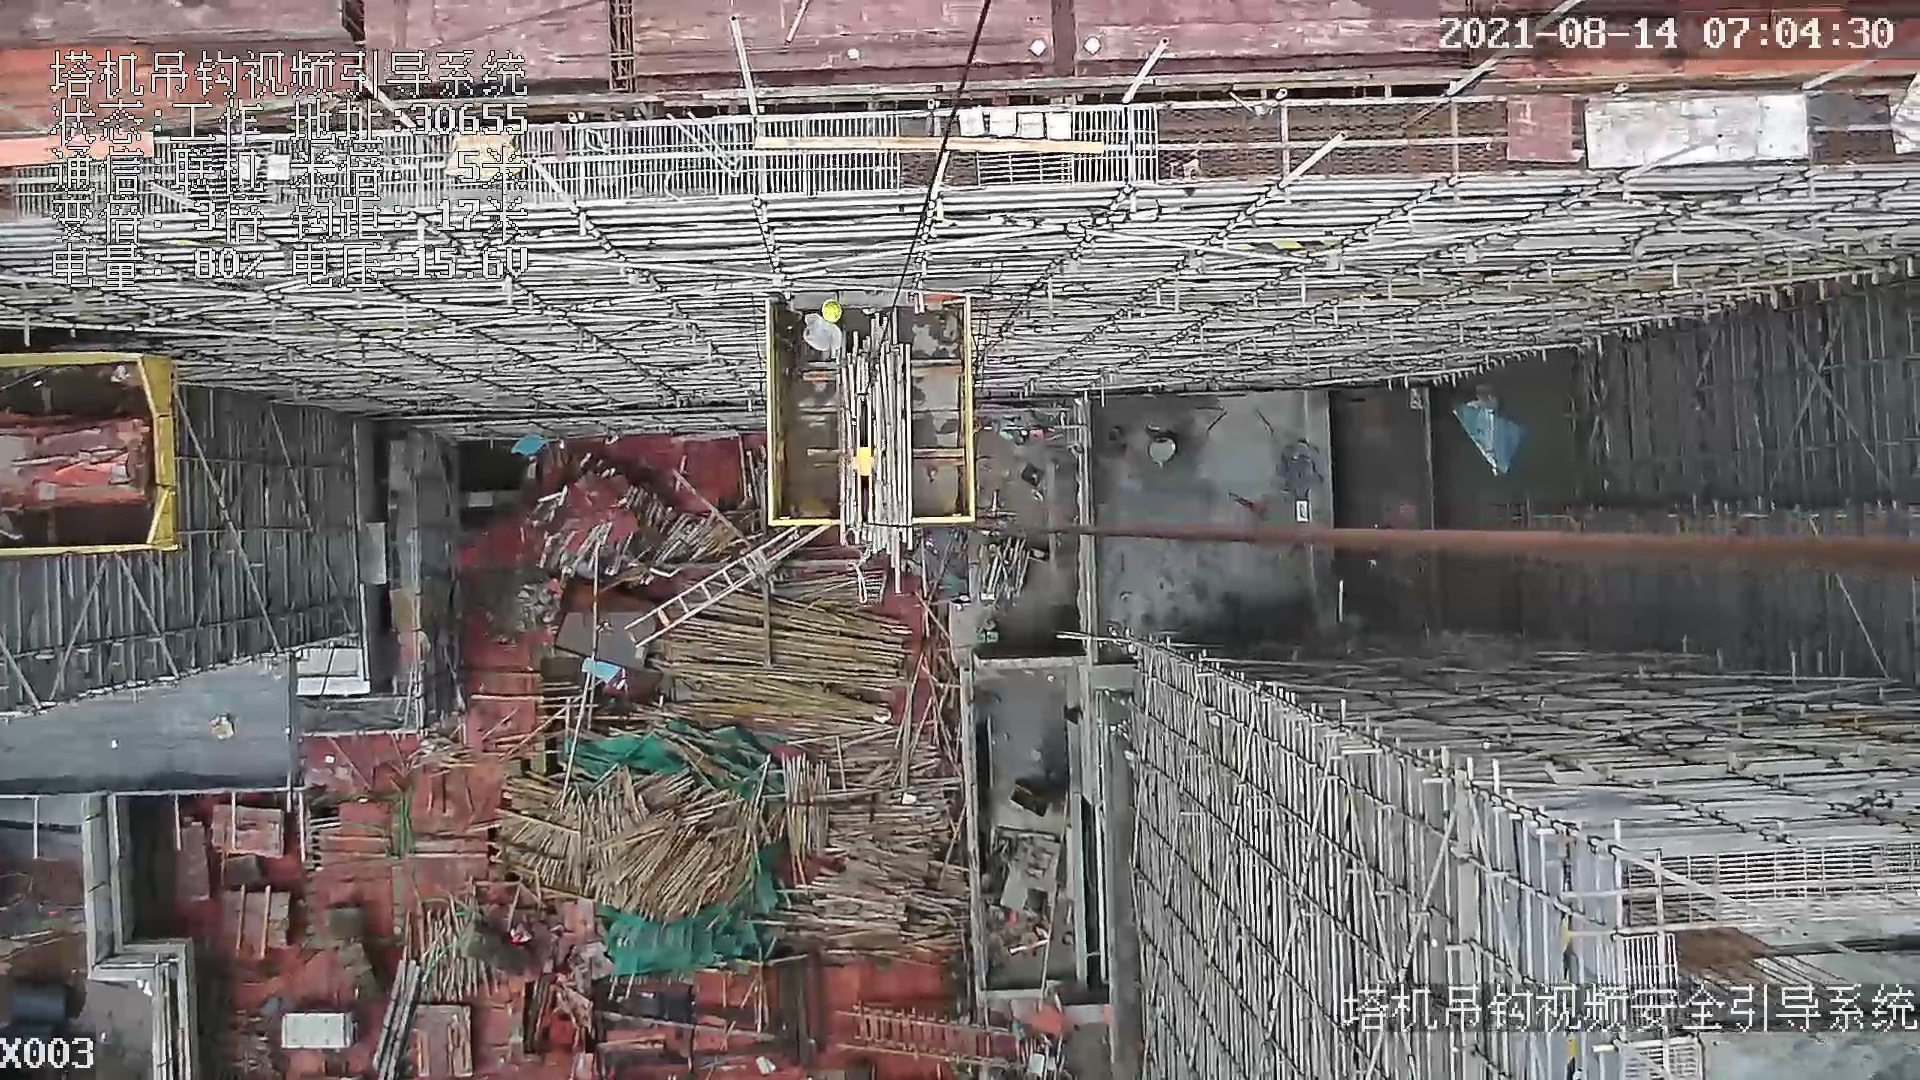helmet: (816, 301, 847, 324)
hook: (845, 389, 891, 535)
person: (795, 300, 853, 359)
